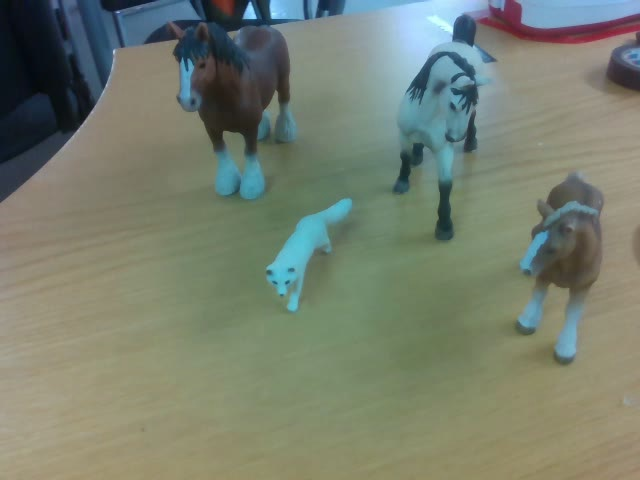toy: (168, 18, 298, 201), (394, 14, 495, 241), (519, 173, 604, 361), (267, 198, 352, 313)
